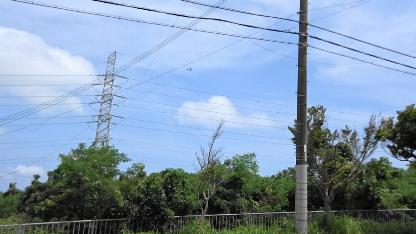Tornado: (186, 67, 192, 70)
